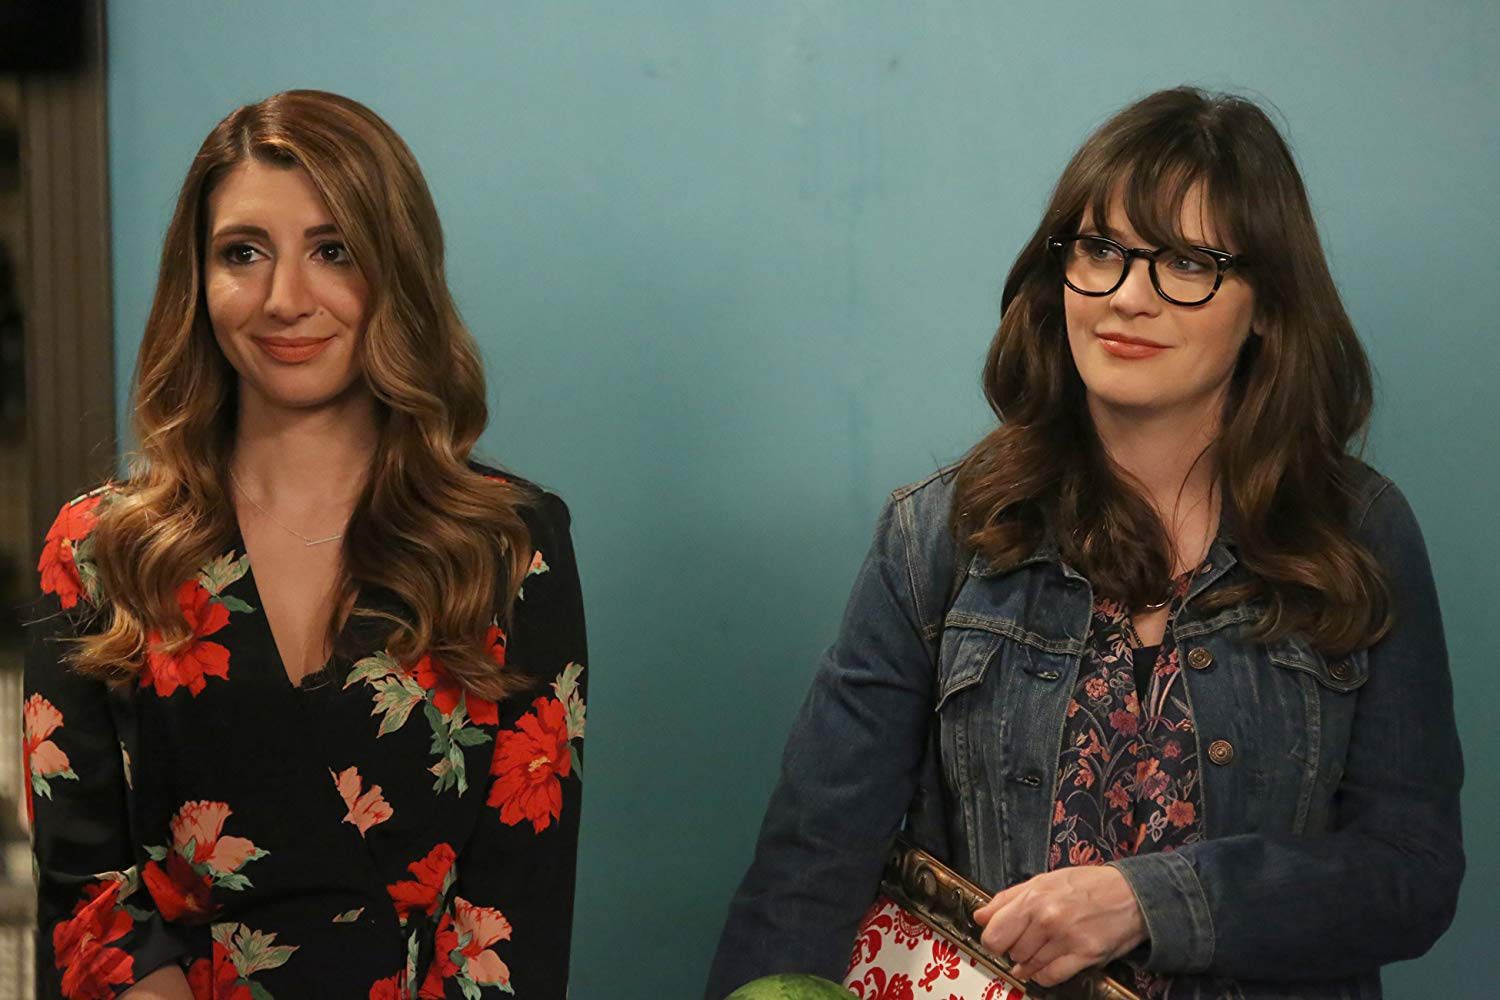person: (766, 93, 1474, 1000), (30, 88, 598, 999)
